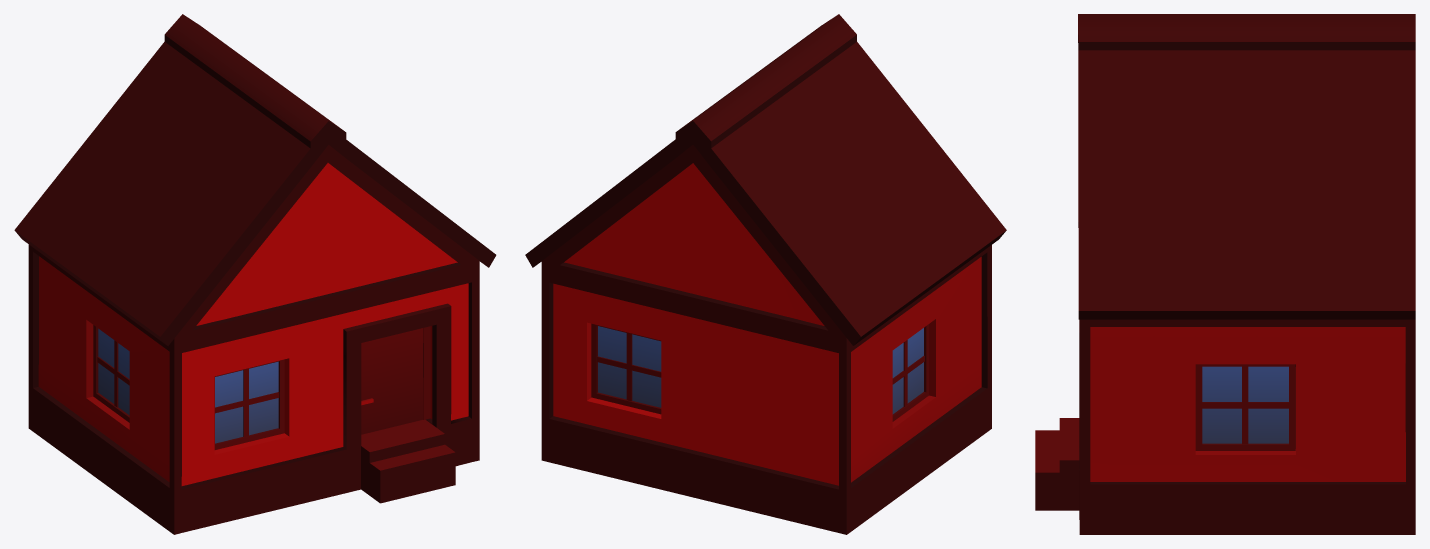
The model's file is buildings-residential-ridiculouslysmallhouse_v1.fbx.
3 views of the same model, side by side, from view 1: azimuth 30°, elevation 25°; view 2: azimuth 150°, elevation 25°; view 3: azimuth 270°, elevation 25° (orthographic). The views are drawn at different scales.
Parts seen in each view (by area): view 1: RidiculouslySmallHouse_color, RidiculouslySmallHouse_base, RidiculouslySmallHouse_windowRefl; view 2: RidiculouslySmallHouse_color, RidiculouslySmallHouse_base, RidiculouslySmallHouse_windowRefl; view 3: RidiculouslySmallHouse_color, RidiculouslySmallHouse_base, RidiculouslySmallHouse_windowRefl.
Part boxes in pixels (x1=…): RidiculouslySmallHouse_color: x1=14, y1=14, x2=496, y2=534; RidiculouslySmallHouse_base: x1=38, y1=163, x2=468, y2=485; RidiculouslySmallHouse_windowRefl: x1=98, y1=328, x2=278, y2=443; RidiculouslySmallHouse_color: x1=525, y1=14, x2=1006, y2=534; RidiculouslySmallHouse_base: x1=553, y1=163, x2=981, y2=485; RidiculouslySmallHouse_windowRefl: x1=598, y1=326, x2=923, y2=414; RidiculouslySmallHouse_color: x1=1035, y1=14, x2=1415, y2=534; RidiculouslySmallHouse_base: x1=1090, y1=327, x2=1405, y2=481; RidiculouslySmallHouse_windowRefl: x1=1202, y1=366, x2=1288, y2=443.
Size of the model in its own units: 7.18 by 7.69 by 6.09.
